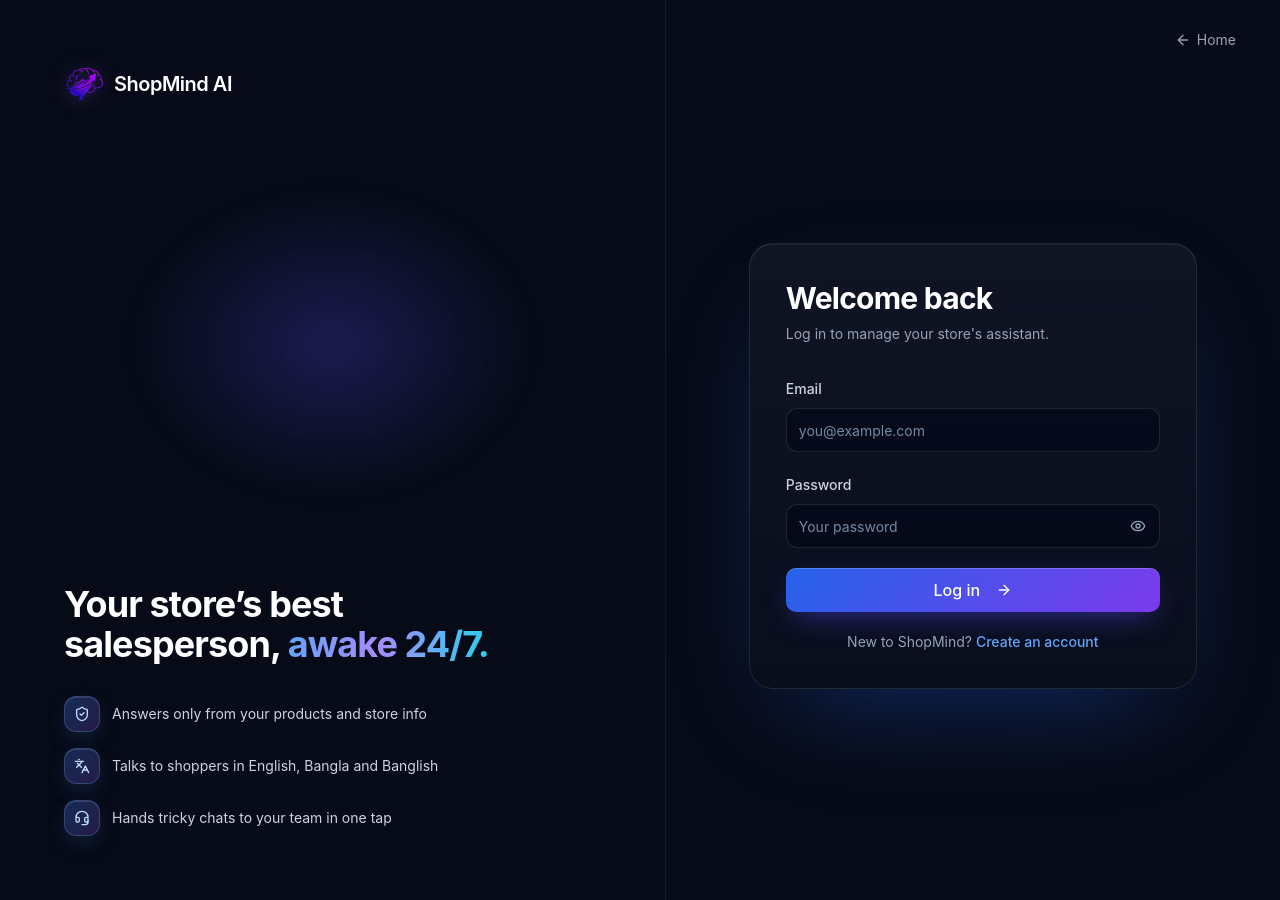
Test case: Login › shows the error inline when login fails
Type "a@b.test" into the field labelled "Email" at {"x": 973, "y": 430}, box [786, 408, 1160, 452]
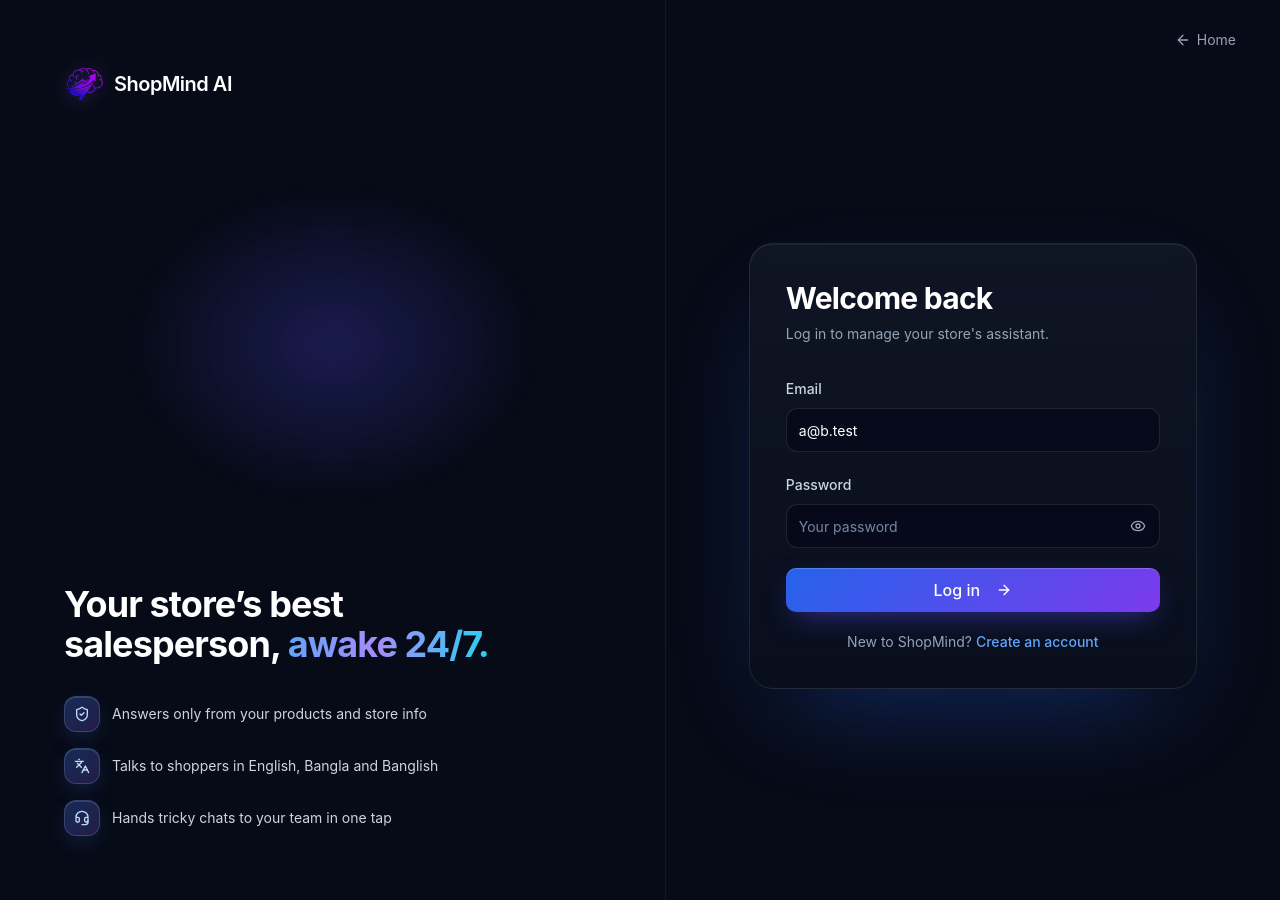
Type "nope" into the password field labelled "Password" at {"x": 973, "y": 526}, box [786, 504, 1160, 548]
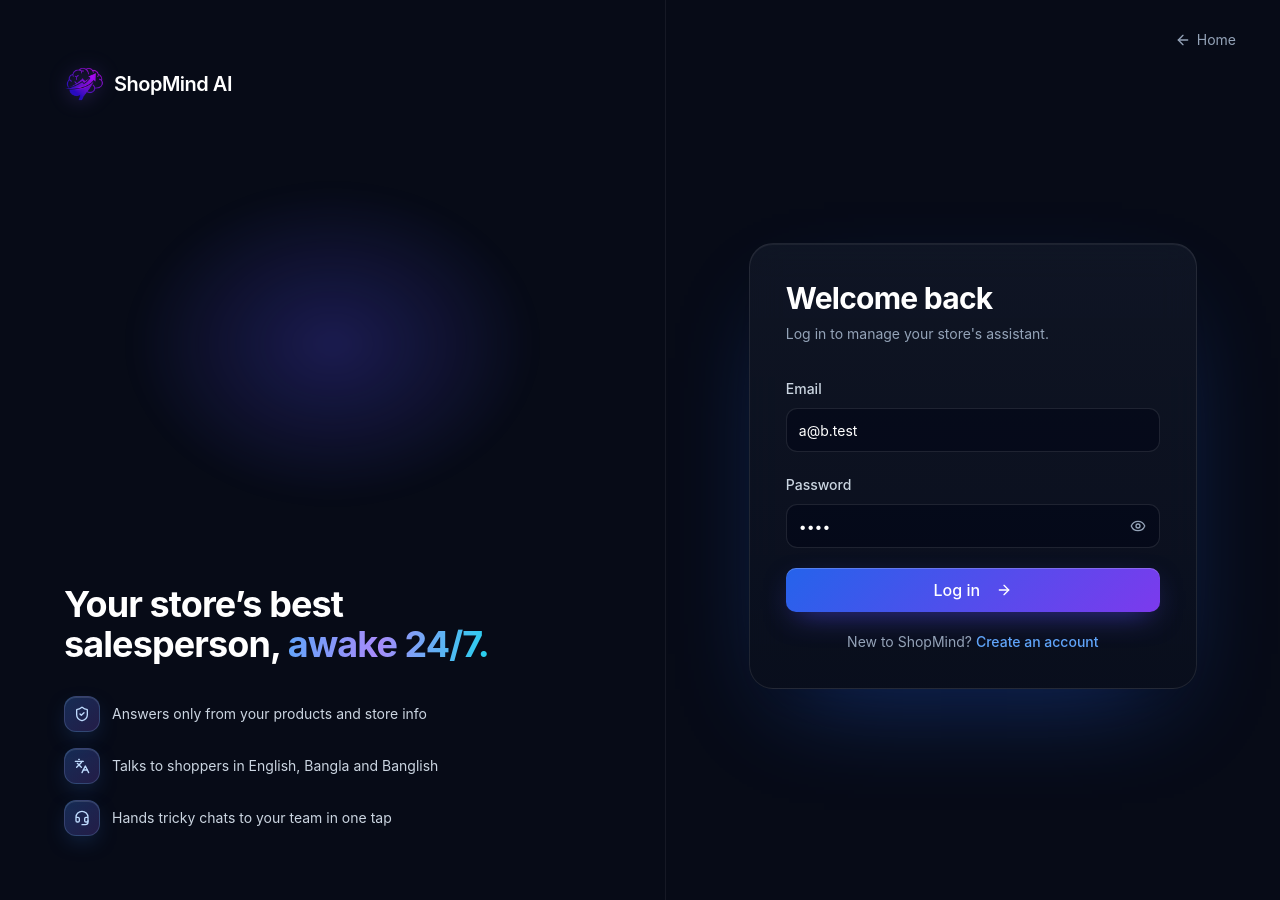
Click the button "Log in" at {"x": 973, "y": 590}, box [786, 568, 1160, 612]
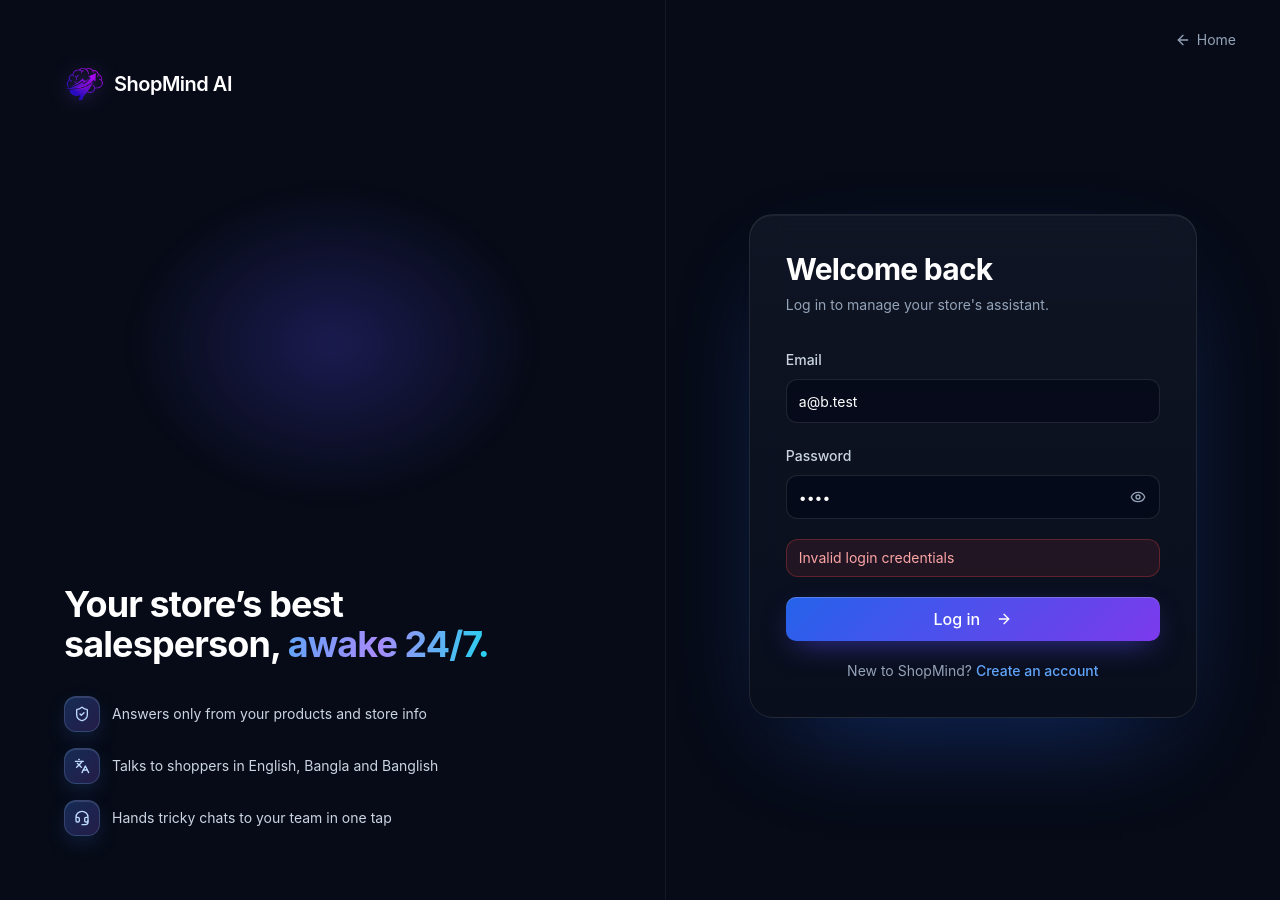
expect the message reads "Invalid login credentials": met, box [799, 549, 954, 566]
